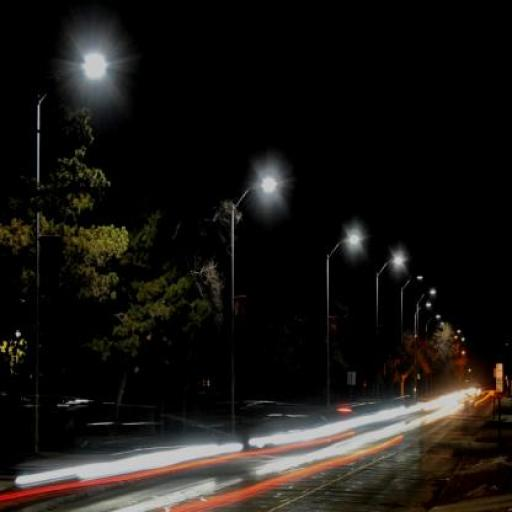street light: (34, 59, 106, 455), (230, 181, 277, 434), (326, 235, 360, 409), (376, 258, 404, 402), (400, 274, 423, 398), (416, 288, 435, 395)
